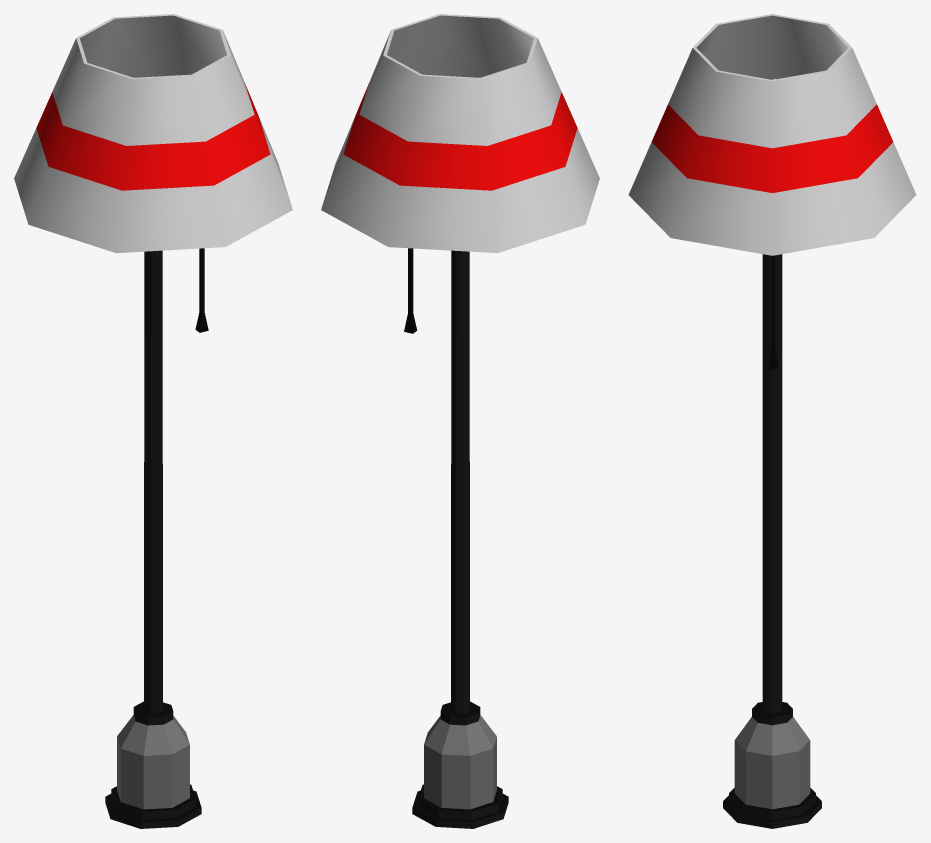
Rendered from FloorLamp_Striped.FBX.
3 renders of one model, left to right at view 1: azimuth 30°, elevation 25°; view 2: azimuth 150°, elevation 25°; view 3: azimuth 270°, elevation 25°, orthographic.
Parts seen in each view (by area): view 1: Cylinder014; view 2: Cylinder014; view 3: Cylinder014.
Part boxes in pixels (<box>): Cylinder014: <box>14,14,292,828</box>; Cylinder014: <box>321,14,599,828</box>; Cylinder014: <box>628,14,916,828</box>.
Bounding box in the file's own units: 62.24 × 181 × 62.24.
